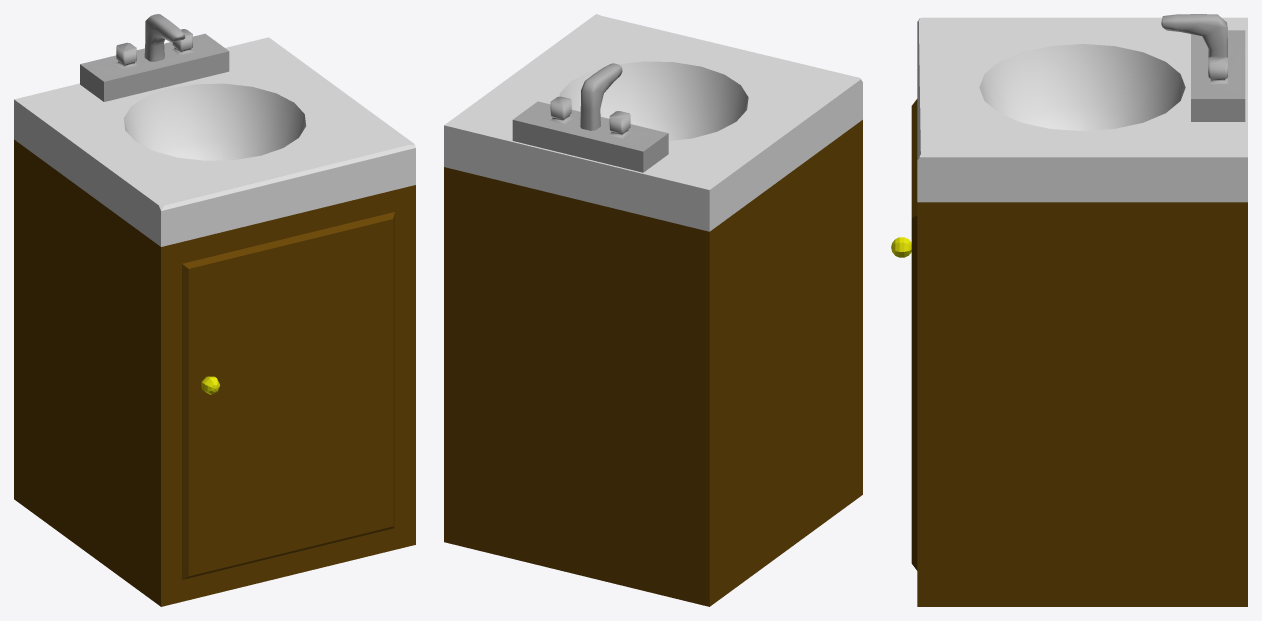
The model's file is Sink.fbx.
3 views of the same model, side by side, from view 1: azimuth 30°, elevation 25°; view 2: azimuth 150°, elevation 25°; view 3: azimuth 270°, elevation 25° (orthographic). The views are drawn at different scales.
Parts seen in each view (by area): view 1: Sink; view 2: Sink; view 3: Sink.
Boxes of the visible parts, x1,y1,x2,y2 form: Sink: (14, 14, 415, 606); Sink: (444, 14, 862, 606); Sink: (911, 14, 1247, 606).
Size of the model in its own units: 60.96 by 106 by 65.77.
